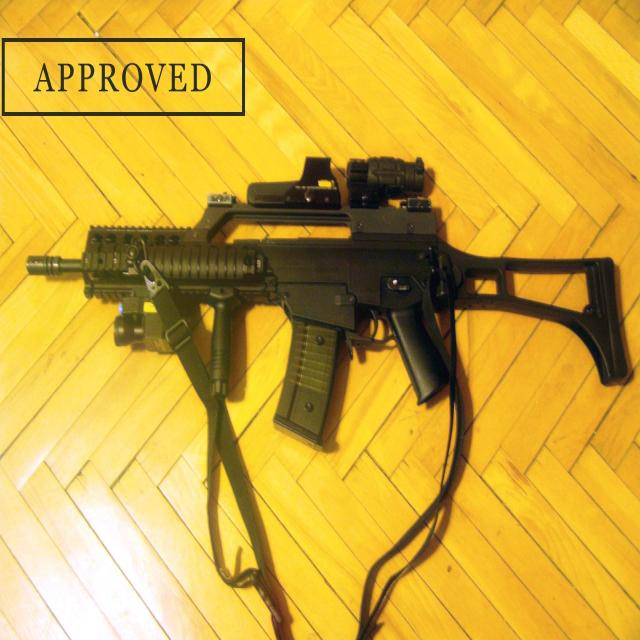firearm: (28, 154, 632, 449)
